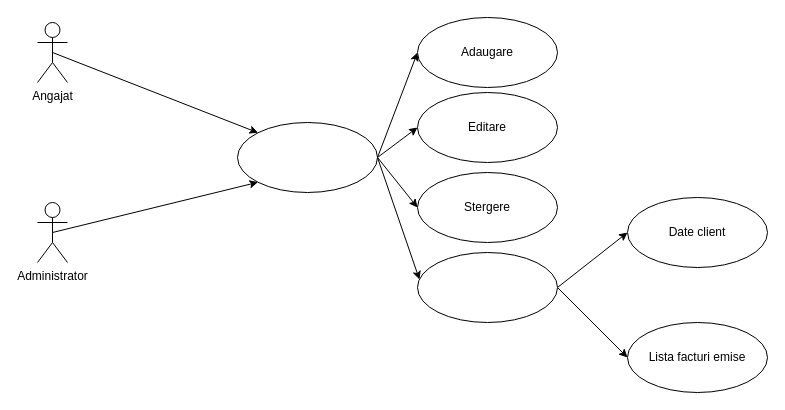
The diagram is 785 pixels wide and 410 high, and some of its shapes have lost their labels. Each missing label, with the centre of its shape:
"Gestiunea clientilor" goes at point 307,157.
"Vizualizare" goes at point 487,287.
